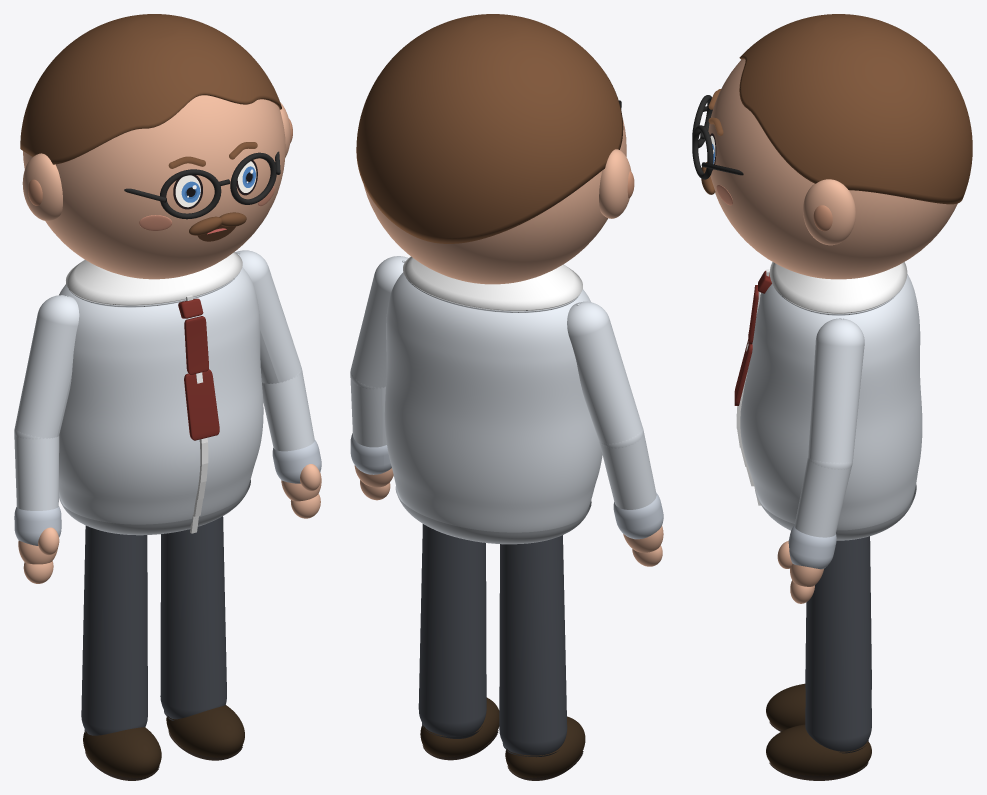
Rendered from wiskundeleraar.glb.
3 views of the same model, side by side, from view 1: azimuth 30°, elevation 25°; view 2: azimuth 150°, elevation 25°; view 3: azimuth 270°, elevation 25° (orthographic).
Visible parts, largest first — view 1: wiskundeleraar_romp, wiskundeleraar_hoofd, wiskundeleraar_haar, wiskundeleraar_been_R, wiskundeleraar_been_L, wiskundeleraar_bovenarm_R, wiskundeleraar_kraag, wiskundeleraar_bovenarm_L, wiskundeleraar_onderarm_R, wiskundeleraar_schoen_R, wiskundeleraar_onderarm_L, wiskundeleraar_schoen_L (+9 smaller); view 2: wiskundeleraar_haar, wiskundeleraar_romp, wiskundeleraar_been_R, wiskundeleraar_been_L, wiskundeleraar_hoofd, wiskundeleraar_bovenarm_R, wiskundeleraar_kraag, wiskundeleraar_bovenarm_L, wiskundeleraar_onderarm_R, wiskundeleraar_schoen_R, wiskundeleraar_onderarm_L, wiskundeleraar_romp_boord (+5 smaller); view 3: wiskundeleraar_haar, wiskundeleraar_romp, wiskundeleraar_hoofd, wiskundeleraar_been_L, wiskundeleraar_bovenarm_L, wiskundeleraar_kraag, wiskundeleraar_schoen_L, wiskundeleraar_onderarm_L, wiskundeleraar_oor_L, wiskundeleraar_manchet_L, wiskundeleraar_schoen_R, wiskundeleraar_romp_boord (+3 smaller).
Part boxes in pixels (x1,y1,x2,y2): wiskundeleraar_romp: (59, 267, 263, 524); wiskundeleraar_hoofd: (23, 95, 285, 279); wiskundeleraar_haar: (20, 14, 281, 164); wiskundeleraar_been_R: (81, 525, 147, 735); wiskundeleraar_been_L: (160, 516, 226, 719); wiskundeleraar_bovenarm_R: (15, 295, 79, 438); wiskundeleraar_kraag: (66, 252, 242, 305); wiskundeleraar_bovenarm_L: (235, 250, 301, 383); wiskundeleraar_onderarm_R: (14, 432, 59, 510); wiskundeleraar_schoen_R: (83, 727, 161, 778); wiskundeleraar_onderarm_L: (262, 370, 314, 451); wiskundeleraar_schoen_L: (166, 705, 244, 757); wiskundeleraar_haar: (356, 14, 623, 243); wiskundeleraar_romp: (384, 272, 602, 532); wiskundeleraar_been_R: (499, 535, 567, 755); wiskundeleraar_been_L: (418, 524, 486, 736); wiskundeleraar_hoofd: (364, 117, 626, 284); wiskundeleraar_bovenarm_R: (567, 301, 642, 447); wiskundeleraar_kraag: (403, 256, 582, 311); wiskundeleraar_bovenarm_L: (350, 256, 408, 388); wiskundeleraar_onderarm_R: (599, 432, 656, 509); wiskundeleraar_schoen_R: (505, 716, 585, 778); wiskundeleraar_onderarm_L: (350, 376, 386, 447); wiskundeleraar_romp_boord: (395, 486, 591, 544); wiskundeleraar_haar: (739, 14, 972, 204); wiskundeleraar_romp: (740, 274, 922, 530); wiskundeleraar_hoofd: (708, 59, 957, 279); wiskundeleraar_been_L: (805, 536, 871, 751); wiskundeleraar_bovenarm_L: (808, 318, 864, 469); wiskundeleraar_kraag: (769, 262, 907, 313); wiskundeleraar_schoen_L: (766, 724, 871, 776); wiskundeleraar_onderarm_L: (794, 458, 851, 537); wiskundeleraar_oor_L: (803, 179, 855, 245); wiskundeleraar_manchet_L: (788, 525, 836, 569); wiskundeleraar_schoen_R: (766, 683, 805, 730); wiskundeleraar_romp_boord: (755, 484, 916, 540).
Size of the model in its own units: 0.7932 by 1.84 by 0.6401.
